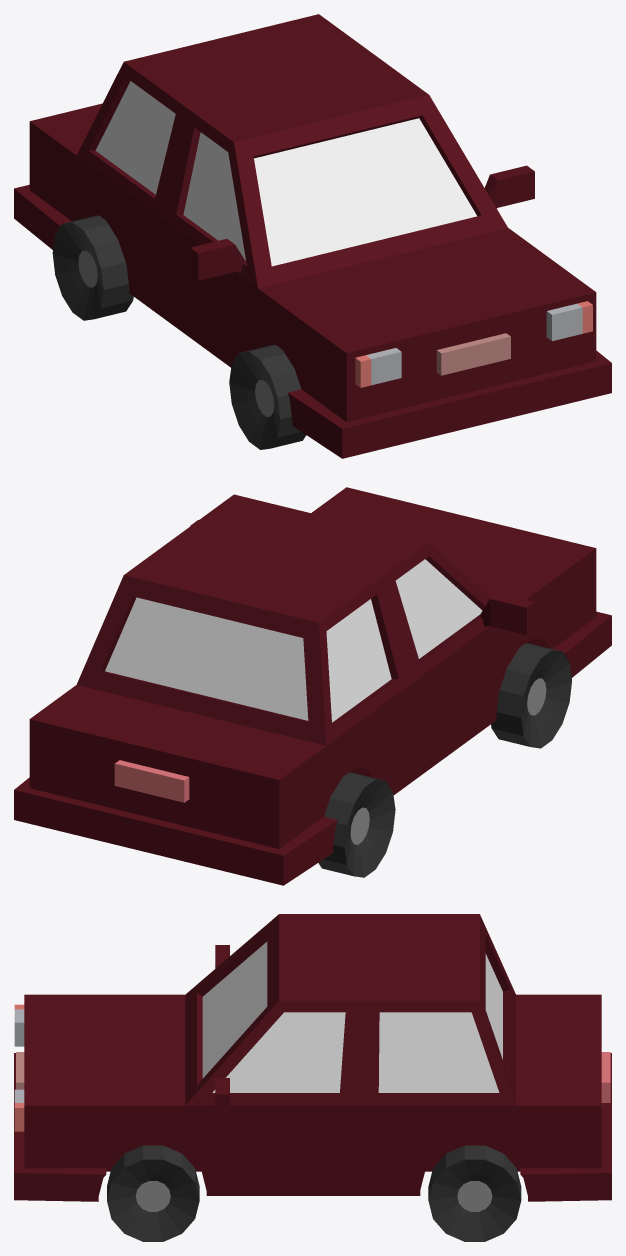
The model's file is Car_Burgundy.fbx.
3 views of the same model, one above another, from view 1: azimuth 30°, elevation 25°; view 2: azimuth 150°, elevation 25°; view 3: azimuth 270°, elevation 25° (orthographic). The views are drawn at different scales.
Parts seen in each view (by area): view 1: Cube; view 2: Cube; view 3: Cube.
Boxes of the visible parts, x1=… form: Cube: x1=14, y1=14, x2=611, y2=458; Cube: x1=14, y1=487, x2=611, y2=885; Cube: x1=14, y1=914, x2=611, y2=1241.
Size of the model in its own units: 269 by 184 by 455.
